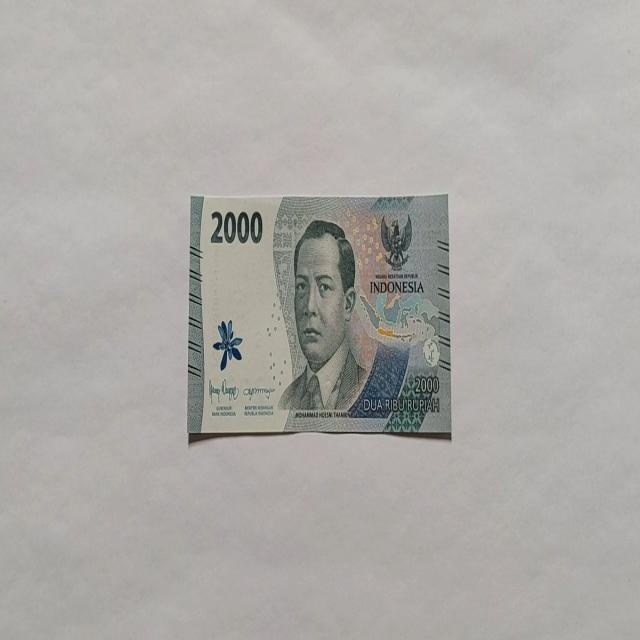dua ribu rupiah: (186, 191, 452, 441), (276, 218, 369, 414)
